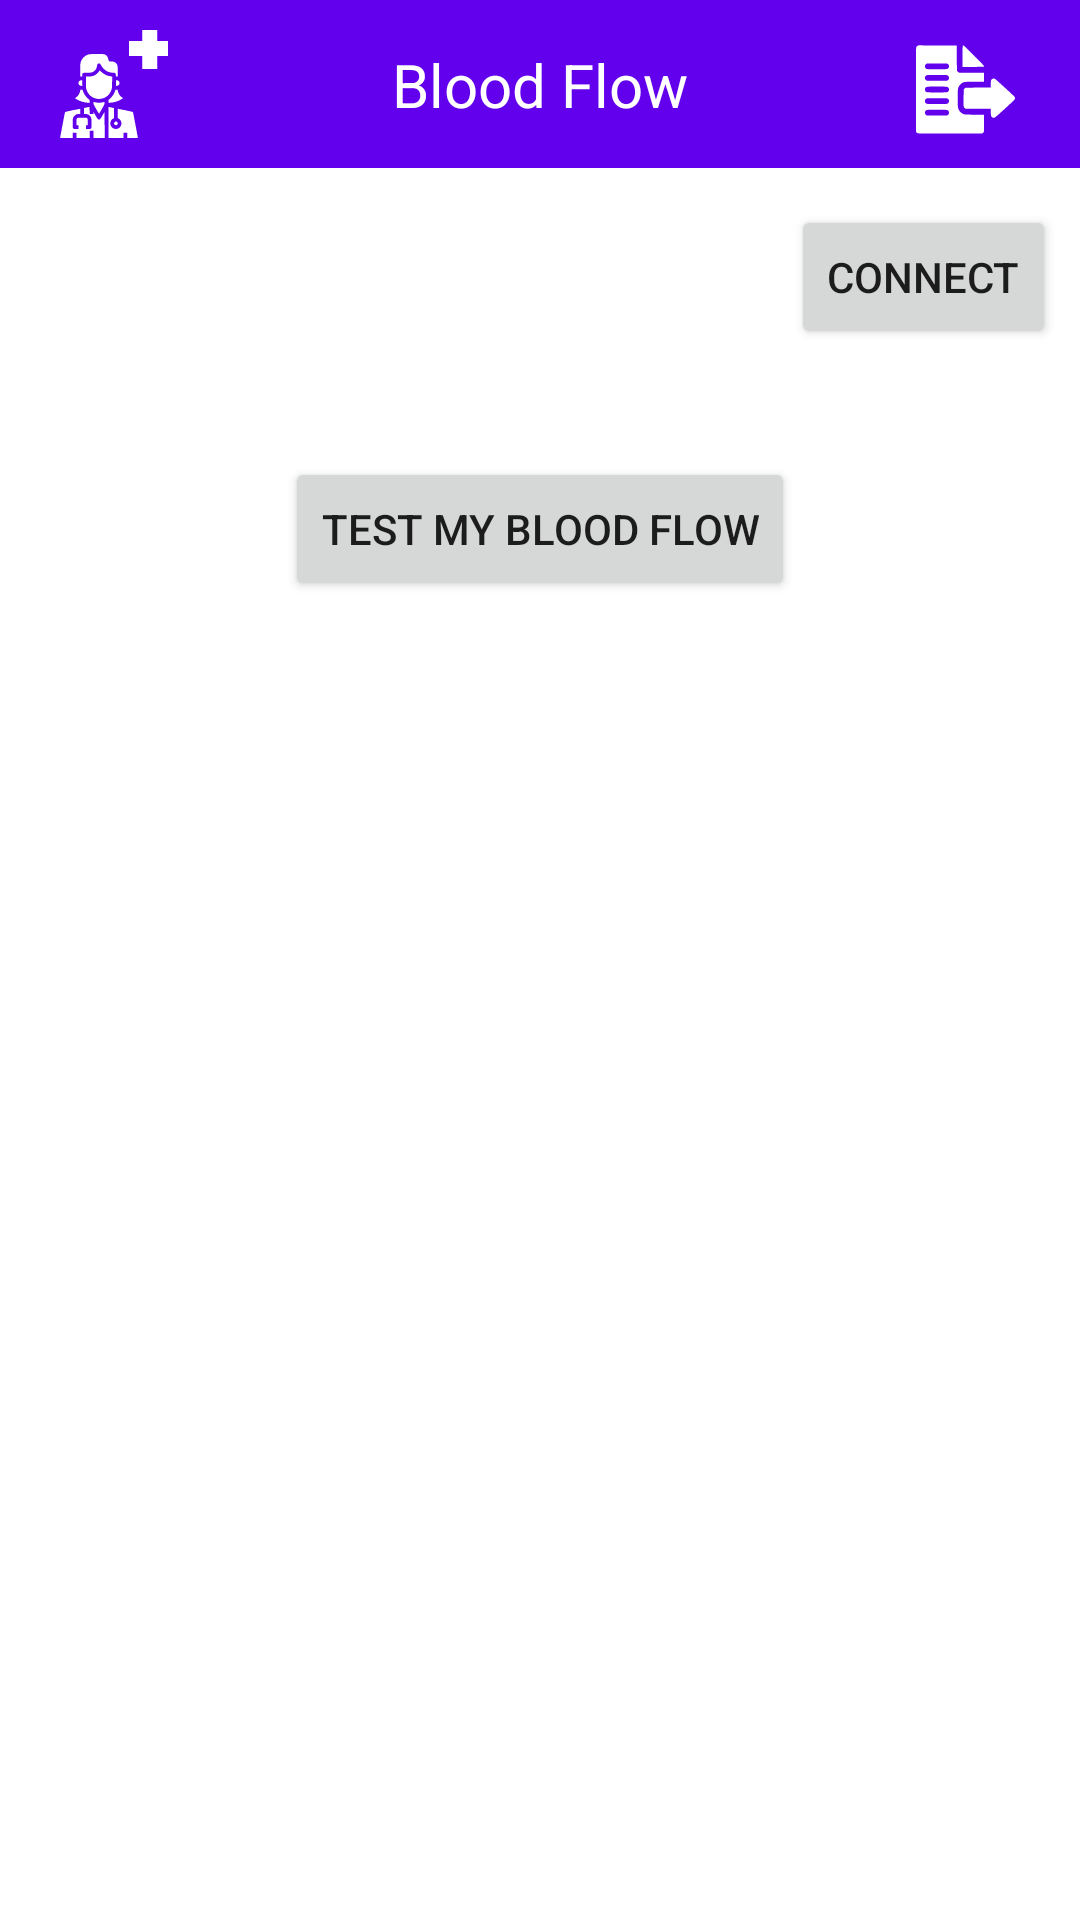

Named icons in this screenshot (1080*1920) and their bounding boxes, (left=x1, top=y1, right=x2, bottom=y2):
Add Doctor: (left=60, top=30, right=168, bottom=138)
Send list: (left=916, top=45, right=1015, bottom=134)
